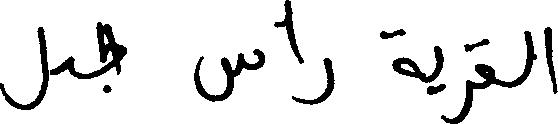X: (194, 44, 264, 106), (0, 22, 46, 114), (443, 39, 471, 123), (99, 17, 125, 97), (286, 0, 302, 107), (304, 53, 334, 109), (393, 24, 420, 84), (475, 34, 494, 93), (545, 22, 557, 98), (435, 41, 441, 123), (526, 26, 533, 83), (65, 51, 73, 80)
